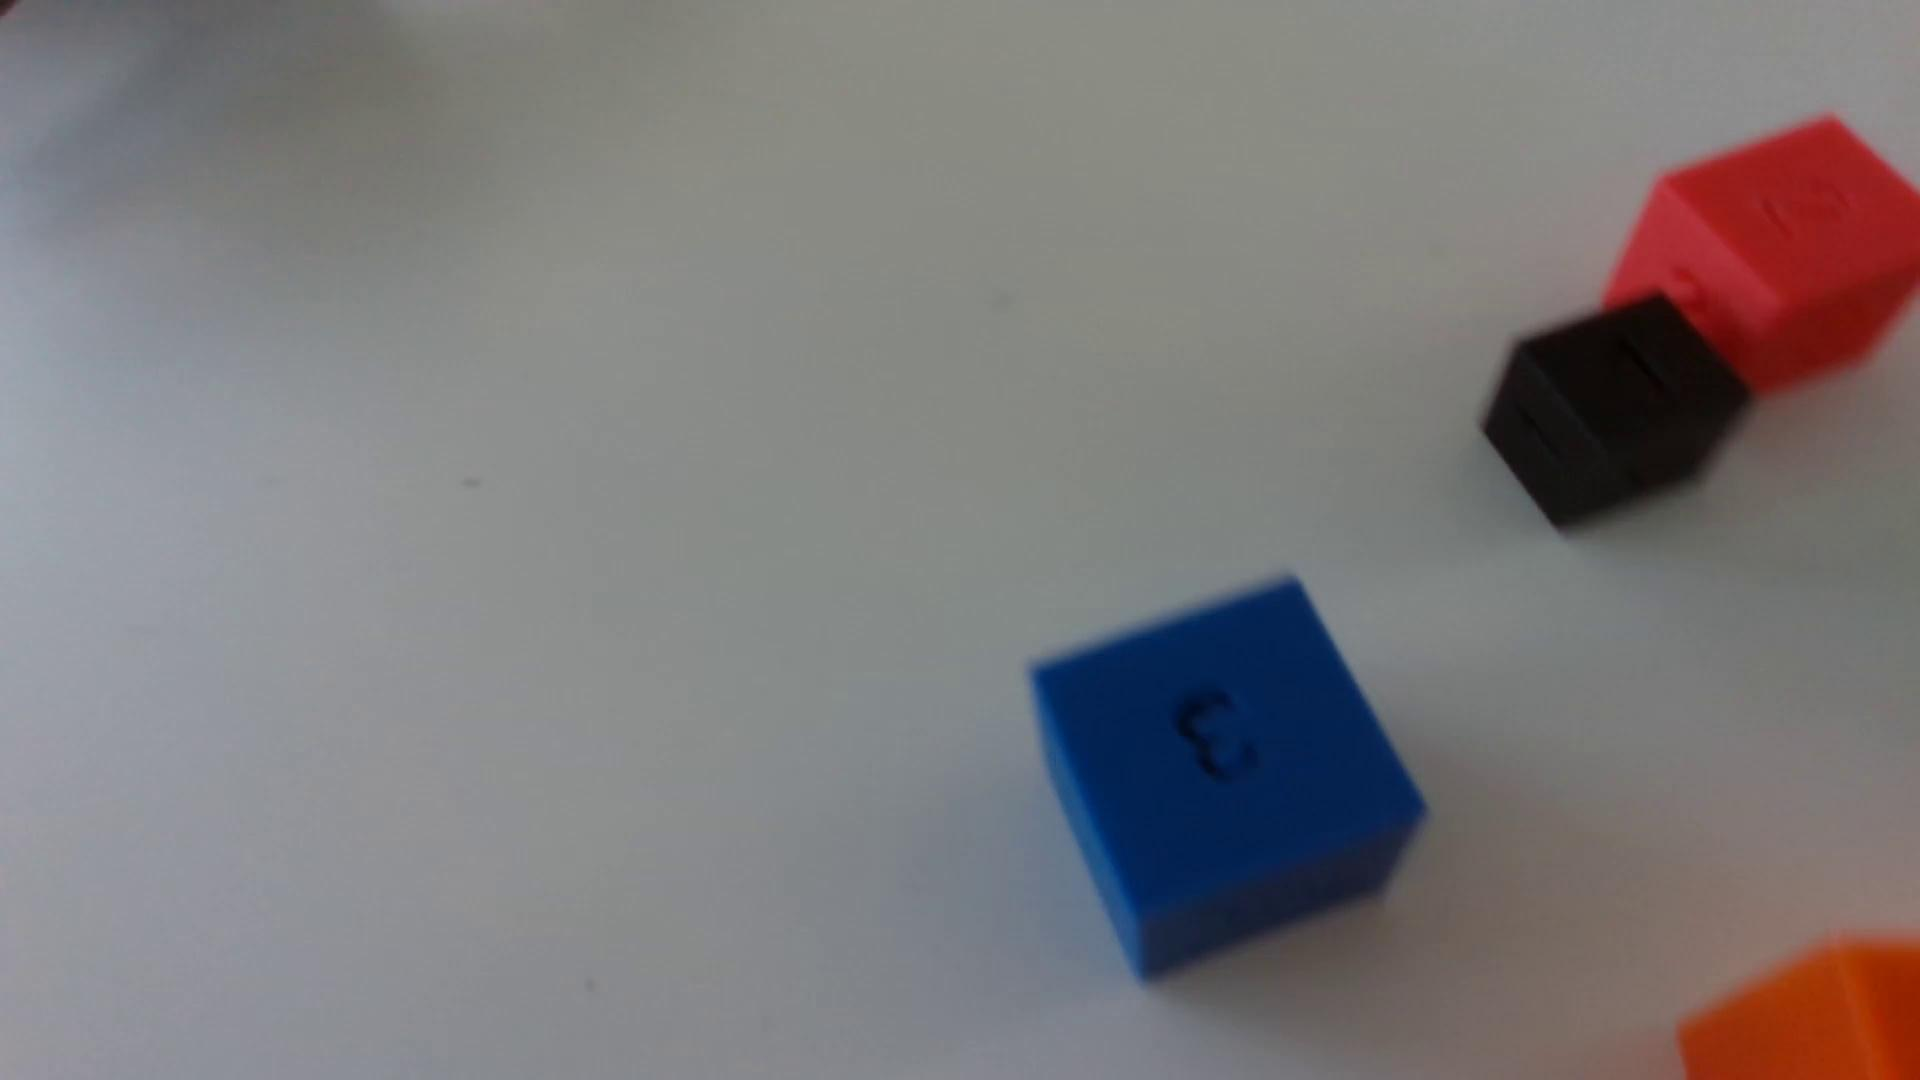black: (1481, 297, 1751, 531)
blue: (1030, 579, 1424, 978)
orange: (1677, 938, 1920, 1080)
red: (1602, 117, 1920, 397)
